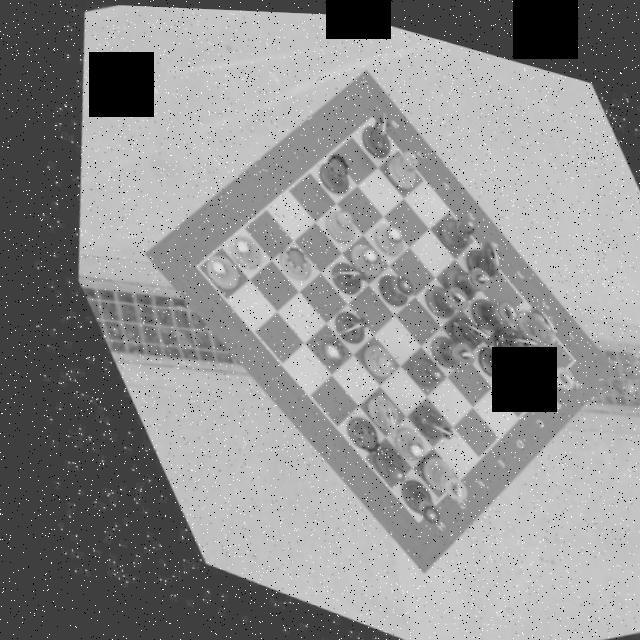chess-table-corners: (158, 250, 208, 298), (372, 498, 414, 536), (540, 338, 578, 372), (348, 105, 387, 138)
